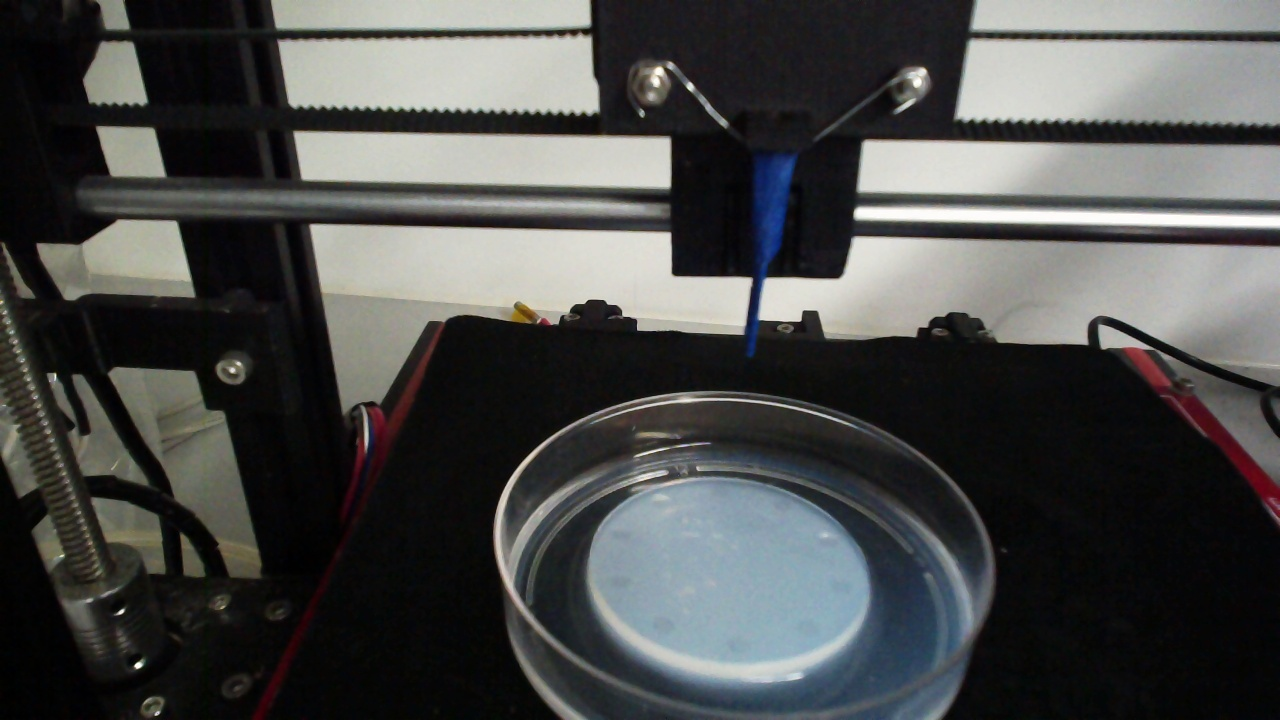groove: (796, 617, 822, 640), (815, 531, 843, 550), (727, 636, 752, 655), (651, 617, 676, 635), (829, 577, 855, 594), (609, 575, 633, 591), (612, 526, 634, 543), (771, 498, 793, 514), (709, 485, 729, 500), (650, 493, 671, 507)
needle: (743, 159, 795, 360)
